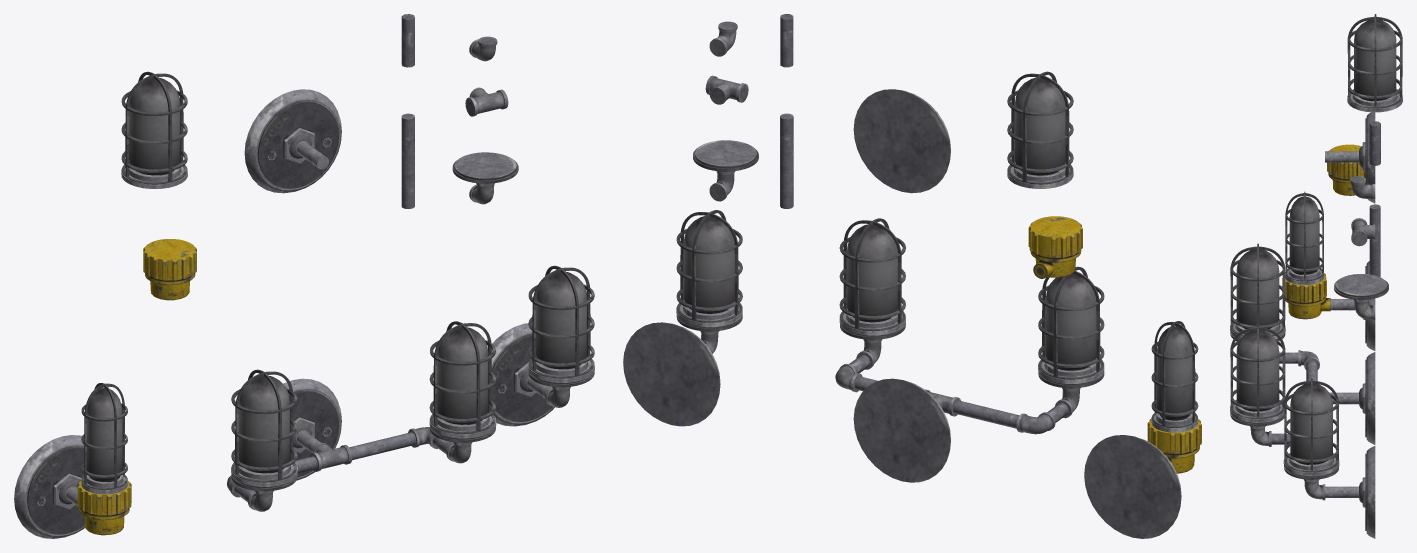
3 views of the same model, side by side, from view 1: azimuth 30°, elevation 25°; view 2: azimuth 150°, elevation 25°; view 3: azimuth 270°, elevation 25° (orthographic). The views are drawn at different scales.
Parts seen in each view (by area): view 1: industrial_caged_sconce_c, industrial_caged_sconce_b, industrial_caged_sconce_a, industrial_caged_sconce_mount, industrial_caged_sconce_light, industrial_caged_sconce_base_a, industrial_caged_sconce_base_b, industrial_caged_sconce_pipe_long, industrial_caged_sconce_pipe_t, industrial_caged_sconce_pipe_short; view 2: industrial_caged_sconce_c, industrial_caged_sconce_a, industrial_caged_sconce_b, industrial_caged_sconce_mount, industrial_caged_sconce_light, industrial_caged_sconce_base_a, industrial_caged_sconce_base_b, industrial_caged_sconce_pipe_long, industrial_caged_sconce_pipe_t, industrial_caged_sconce_pipe_short; view 3: industrial_caged_sconce_c, industrial_caged_sconce_a, industrial_caged_sconce_b, industrial_caged_sconce_light, industrial_caged_sconce_base_b, industrial_caged_sconce_mount, industrial_caged_sconce_base_a, industrial_caged_sconce_pipe_long, industrial_caged_sconce_pipe_t, industrial_caged_sconce_pipe_short, industrial_caged_sconce_elbow.
Boxes of the visible parts, <box> form: industrial_caged_sconce_c: <box>227,321,496,511</box>; industrial_caged_sconce_b: <box>14,383,131,538</box>; industrial_caged_sconce_a: <box>491,265,594,426</box>; industrial_caged_sconce_mount: <box>244,89,341,193</box>; industrial_caged_sconce_light: <box>121,71,187,188</box>; industrial_caged_sconce_base_a: <box>143,239,196,300</box>; industrial_caged_sconce_base_b: <box>452,152,518,204</box>; industrial_caged_sconce_pipe_long: <box>401,113,414,208</box>; industrial_caged_sconce_pipe_t: <box>465,87,508,116</box>; industrial_caged_sconce_pipe_short: <box>401,14,414,67</box>; industrial_caged_sconce_c: <box>835,218,1104,482</box>; industrial_caged_sconce_a: <box>623,210,742,426</box>; industrial_caged_sconce_b: <box>1084,321,1201,538</box>; industrial_caged_sconce_mount: <box>853,89,950,193</box>; industrial_caged_sconce_light: <box>1007,71,1073,188</box>; industrial_caged_sconce_base_a: <box>1028,216,1082,278</box>; industrial_caged_sconce_base_b: <box>693,140,758,201</box>; industrial_caged_sconce_pipe_long: <box>780,113,793,208</box>; industrial_caged_sconce_pipe_t: <box>705,75,748,104</box>; industrial_caged_sconce_pipe_short: <box>780,14,793,67</box>; industrial_caged_sconce_c: <box>1230,243,1375,446</box>; industrial_caged_sconce_a: <box>1283,378,1375,538</box>; industrial_caged_sconce_b: <box>1282,191,1375,350</box>; industrial_caged_sconce_light: <box>1347,14,1402,112</box>; industrial_caged_sconce_base_b: <box>1334,274,1388,320</box>; industrial_caged_sconce_mount: <box>1325,110,1375,203</box>; industrial_caged_sconce_base_a: <box>1327,144,1365,195</box>; industrial_caged_sconce_pipe_long: <box>1369,204,1380,277</box>; industrial_caged_sconce_pipe_t: <box>1351,218,1375,246</box>; industrial_caged_sconce_pipe_short: <box>1369,121,1380,165</box>; industrial_caged_sconce_elbow: <box>1350,176,1375,199</box>.
Bounding box in the file's own units: 1.21 × 0.9128 × 0.3894.
1 material, 1 textured.
